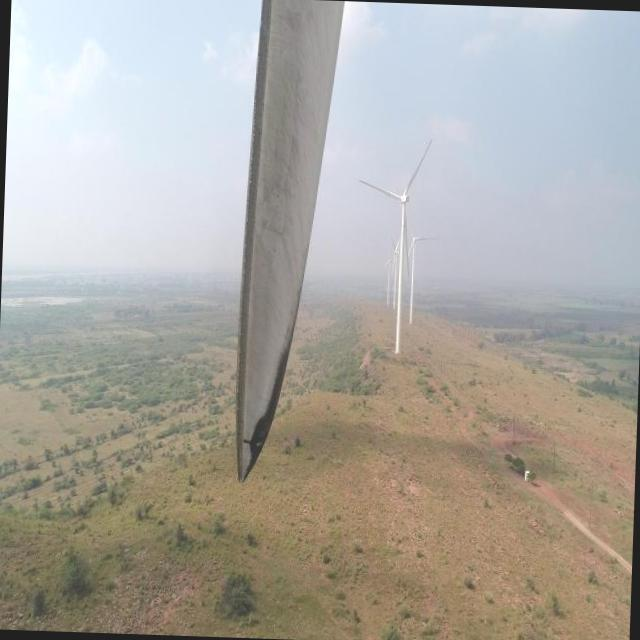Dirt: (236, 0, 343, 482)
Oil LEAKAGE: (245, 347, 292, 478)
Pin Hole: (241, 433, 266, 449)
